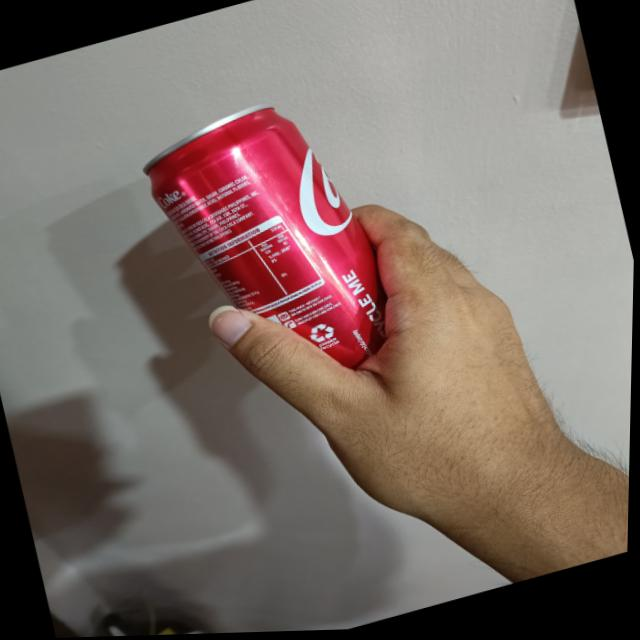coke: (132, 77, 426, 419)
